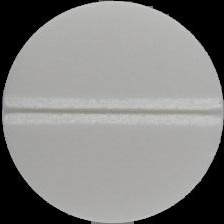55695-015: (0, 0, 224, 224)
